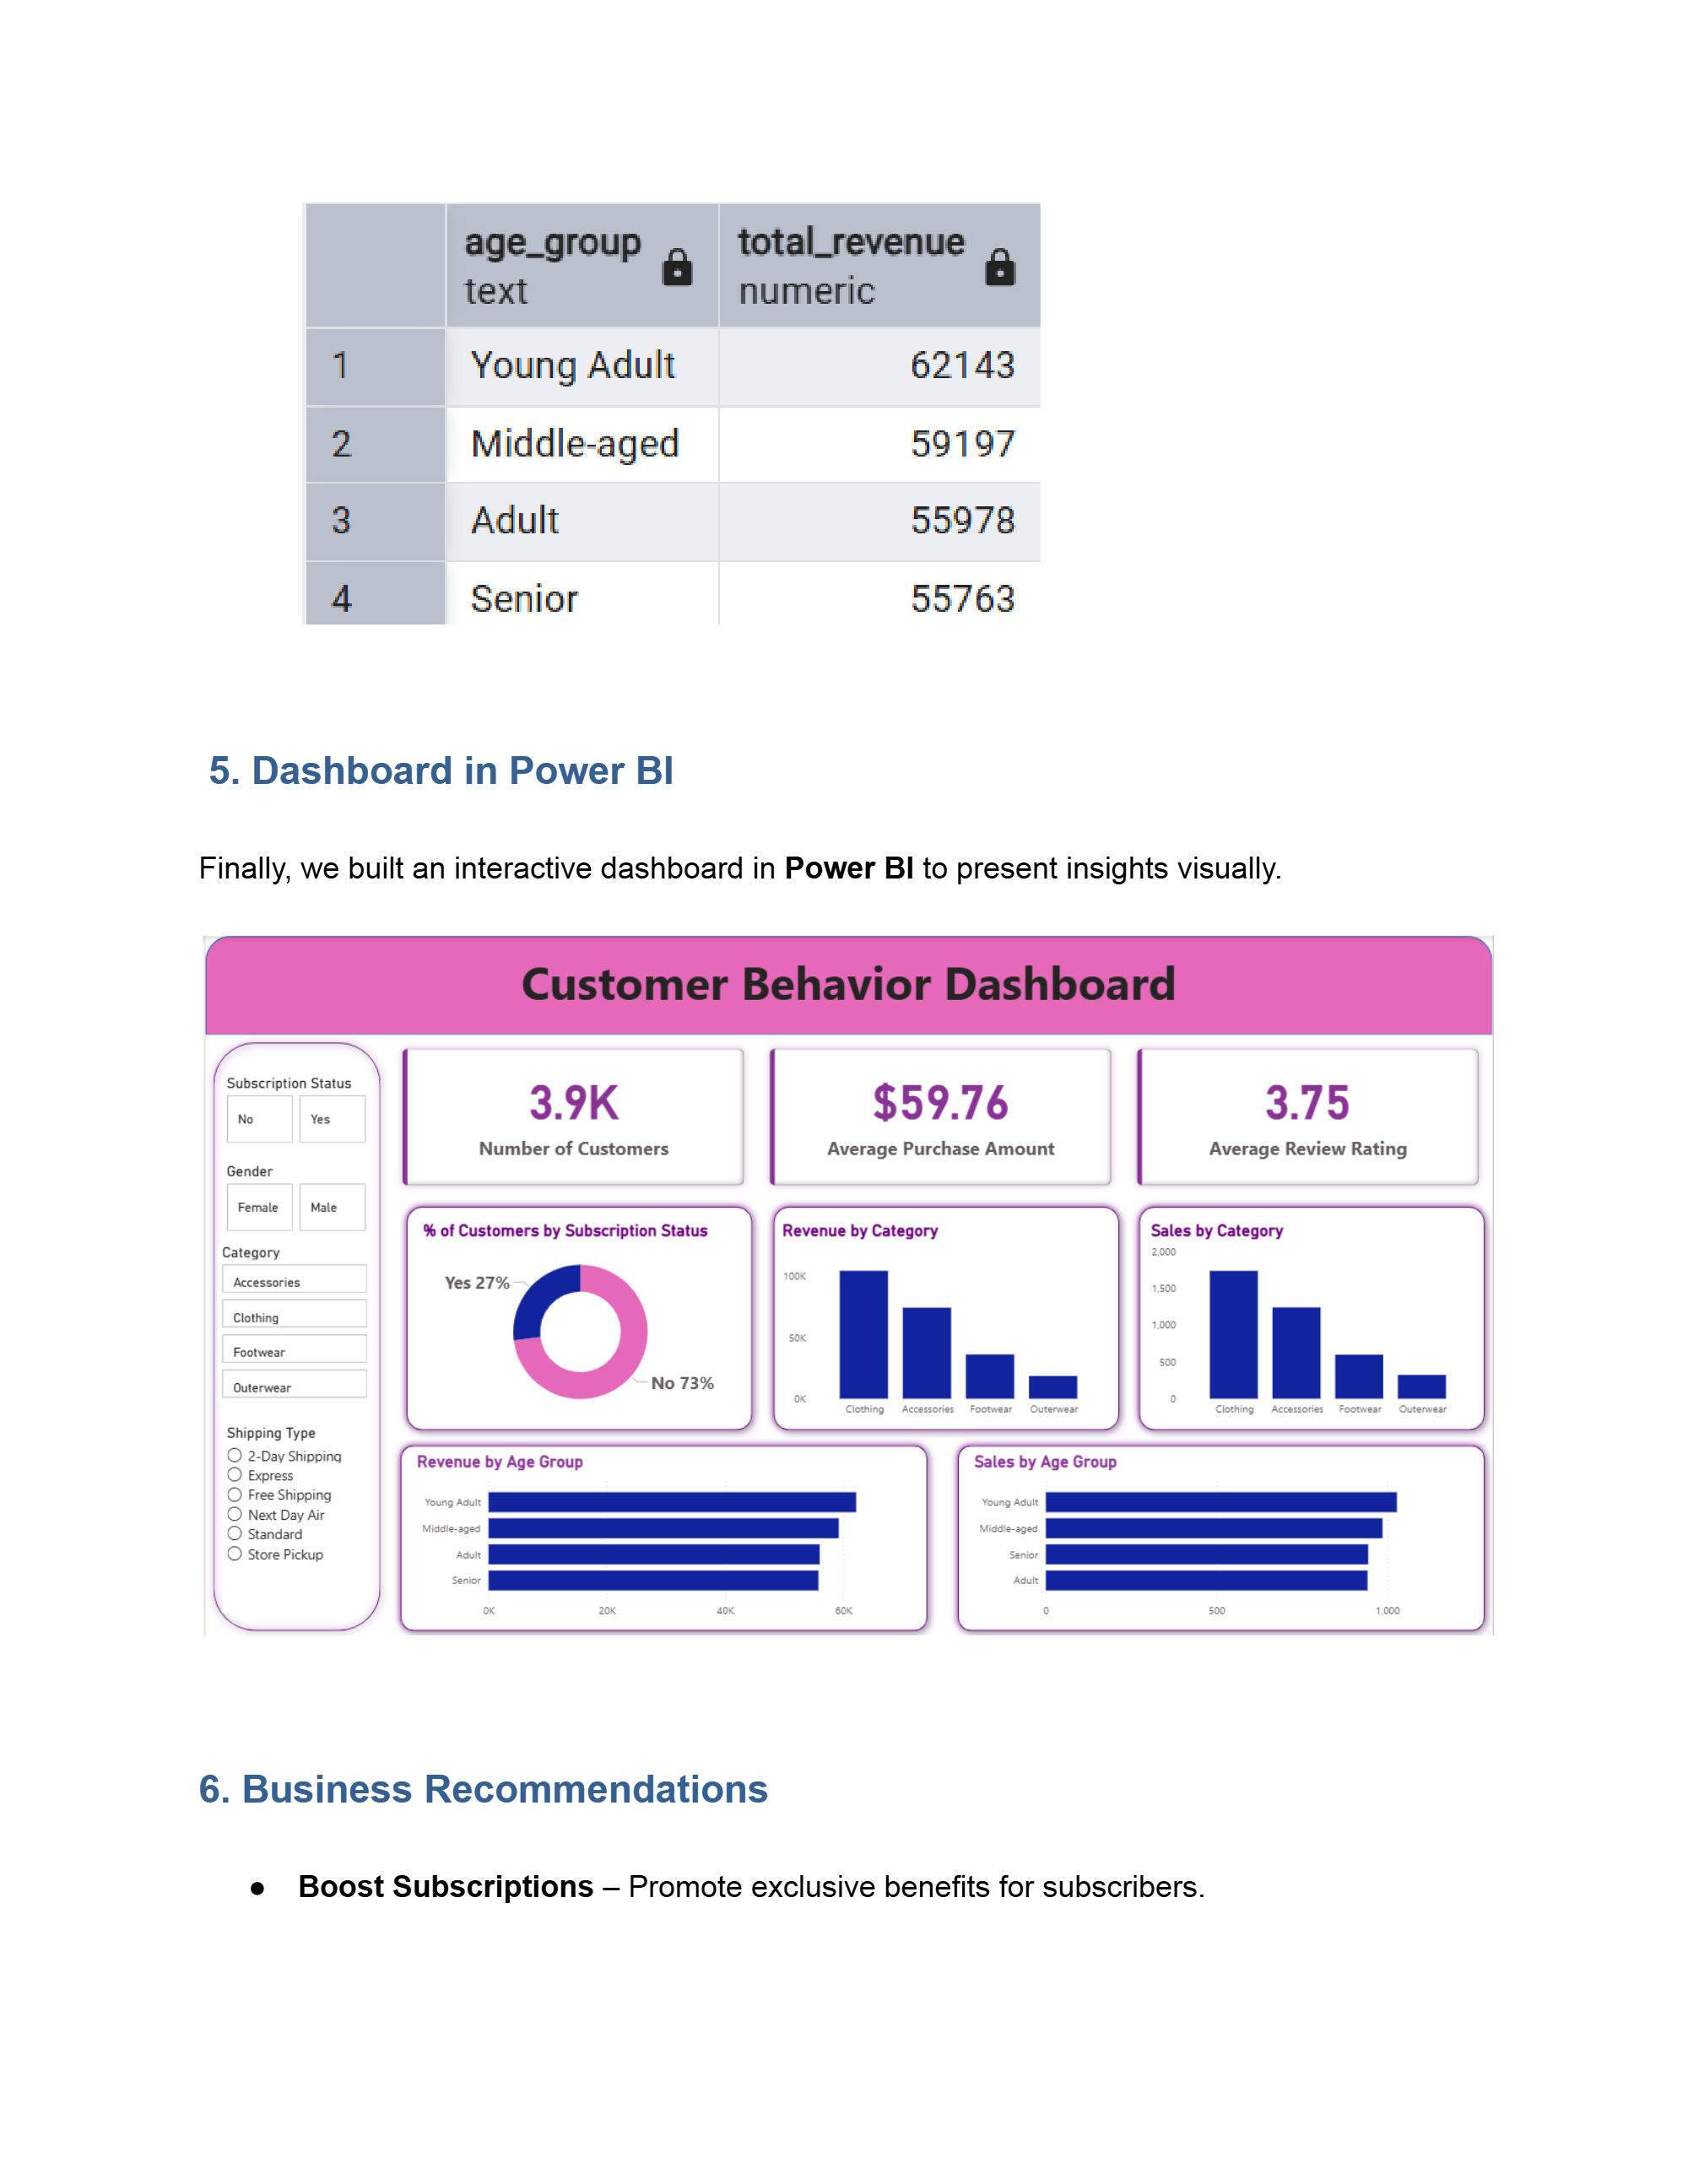

The page's visual inventory and layout, read from the dashboard file:
{"tool":"powerbi","page":{"name":"Page 1","canvas":[1500,900],"ordinal":0},"visuals":[{"type":"cardVisual","fields":{"Data":["public cust.Number_of_customers","public cust.Average_purchase_amount","public cust.Average_Review"]},"box":[274.5,76.9,1226,158.3],"z":0},{"type":"shape","box":[0,0,1500.3,83],"z":1000},{"type":"textbox","box":[0,6.9,1500.3,70.6],"z":2000},{"type":"shape","box":[283.5,235.3,405.7,319.7],"z":3000},{"type":"donutChart","title":"% of customers  subscription_status","fields":{"Category":["public cust.subscription_status"],"Y":["CountNonNull(public cust.customer_id)"]},"box":[295.6,250.3,383,289.5],"z":4000},{"type":"shape","box":[1094.8,235.3,405.7,319.7],"z":5000},{"type":"shape","box":[689.2,235.3,405.7,319.7],"z":6000},{"type":"clusteredColumnChart","title":"Revenue by category","fields":{"Category":["public cust.category"],"Y":["Sum(public cust.purchase_amount)"]},"box":[704.3,250.3,375.5,289.5],"z":7000},{"type":"clusteredColumnChart","title":"Sales by category","fields":{"Category":["public cust.category"],"Y":["CountNonNull(public cust.customer_id)"]},"box":[1109.9,250.3,375.5,289.5],"z":8000},{"type":"shape","box":[0,76.9,274.5,823.4],"z":9000},{"type":"advancedSlicerVisual","fields":{"Values":["public cust.subscription_status"]},"box":[18.1,126.7,235.3,108.6],"z":10000},{"type":"listSlicer","fields":{"Values":["public cust.shipping_type"]},"box":[21.1,610.8,233.7,251.8],"z":11000},{"type":"advancedSlicerVisual","fields":{"Values":["public cust.gender"]},"box":[21.1,250.3,235.3,116.1],"z":12000},{"type":"advancedSlicerVisual","fields":{"Values":["public cust.category"]},"box":[18.1,366.5,233.7,244.3],"z":13000},{"type":"shape","box":[900.3,568.5,600.2,331.8],"z":14000},{"type":"shape","box":[283.5,568.5,616.8,331.8],"z":15000},{"type":"clusteredBarChart","fields":{"Y":["Sum(public cust.purchase_amount)"],"Category":["public cust.age_group"]},"box":[294.1,582.1,589.6,306.1],"z":16000},{"type":"clusteredBarChart","fields":{"Category":["public cust.age_group"],"Y":["CountNonNull(public cust.customer_id)"]},"box":[913.9,582.1,571.6,306.1],"z":17000}]}

Visuals, with their boxes on the page's 1500x900 design canvas (x1, y1, x2, y2). These are canvas units, not pixel positions in the 1688x2184 screenshot, which may show the page scaled, cropped or inside an application window:
cardVisual - public cust.Number_of_customers x public cust.Average_purchase_amount: {"x1": 274, "y1": 77, "x2": 1500, "y2": 235}
shape: {"x1": 0, "y1": 0, "x2": 1500, "y2": 83}
textbox: {"x1": 0, "y1": 7, "x2": 1500, "y2": 78}
shape: {"x1": 284, "y1": 235, "x2": 689, "y2": 555}
"% of customers  subscription_status" donutChart: {"x1": 296, "y1": 250, "x2": 679, "y2": 540}
shape: {"x1": 1095, "y1": 235, "x2": 1500, "y2": 555}
shape: {"x1": 689, "y1": 235, "x2": 1095, "y2": 555}
"Revenue by category" clusteredColumnChart: {"x1": 704, "y1": 250, "x2": 1080, "y2": 540}
"Sales by category" clusteredColumnChart: {"x1": 1110, "y1": 250, "x2": 1485, "y2": 540}
shape: {"x1": 0, "y1": 77, "x2": 274, "y2": 900}
advancedSlicerVisual - public cust.subscription_status: {"x1": 18, "y1": 127, "x2": 253, "y2": 235}
listSlicer - public cust.shipping_type: {"x1": 21, "y1": 611, "x2": 255, "y2": 863}
advancedSlicerVisual - public cust.gender: {"x1": 21, "y1": 250, "x2": 256, "y2": 366}
advancedSlicerVisual - public cust.category: {"x1": 18, "y1": 366, "x2": 252, "y2": 611}
shape: {"x1": 900, "y1": 568, "x2": 1500, "y2": 900}
shape: {"x1": 284, "y1": 568, "x2": 900, "y2": 900}
clusteredBarChart - Sum(public cust.purchase_amount) x public cust.age_group: {"x1": 294, "y1": 582, "x2": 884, "y2": 888}
clusteredBarChart - public cust.age_group x CountNonNull(public cust.customer_id): {"x1": 914, "y1": 582, "x2": 1486, "y2": 888}
